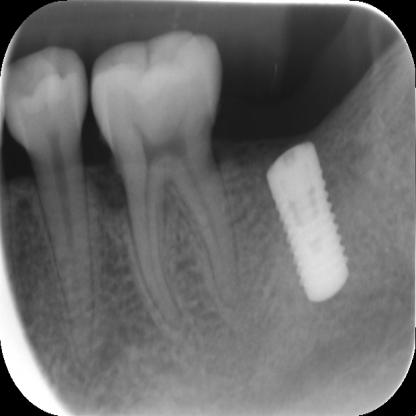ITI: (264, 140, 352, 304)
